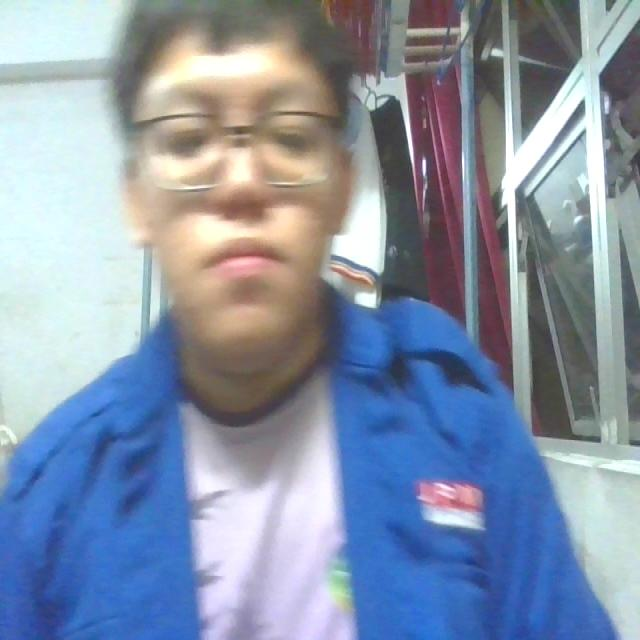person_with_labcoat: (0, 0, 618, 639)
